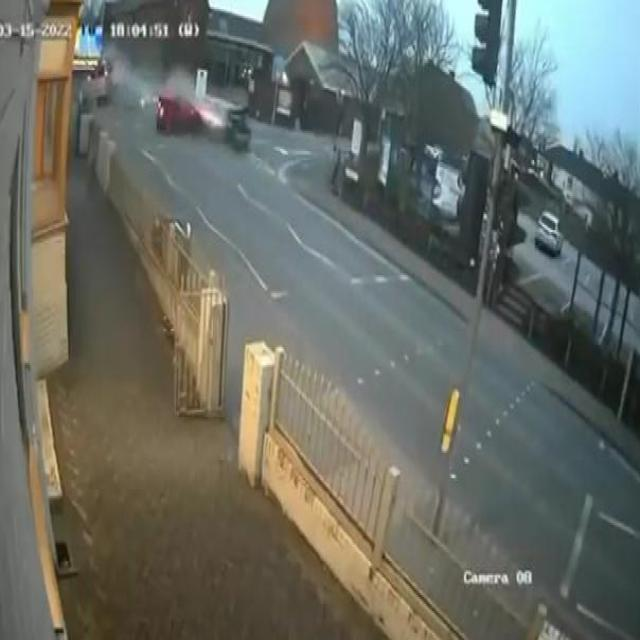accident: (152, 80, 256, 156)
